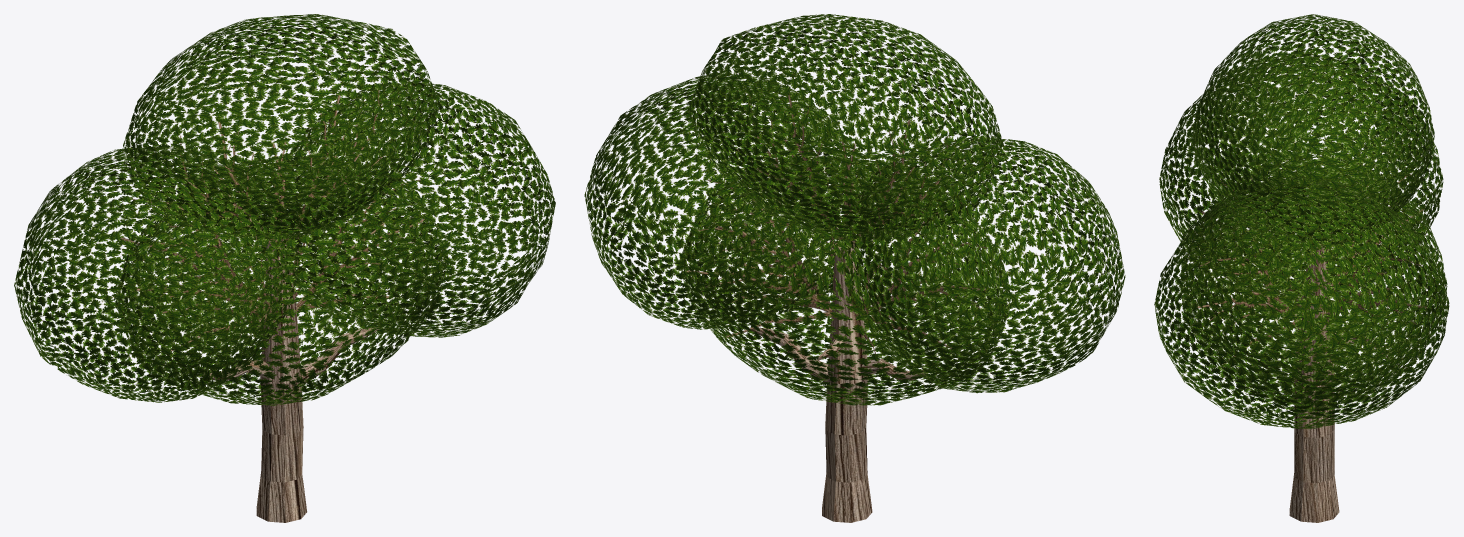
The model's file is tree2.glb.
3 renders of one model, left to right at view 1: azimuth 30°, elevation 25°; view 2: azimuth 150°, elevation 25°; view 3: azimuth 270°, elevation 25°, orthographic.
Parts seen in each view (by area): view 1: Mball.001, Mball.005, Mball.002, Mball.003, trunk-col, branches_texture.007; view 2: Mball.005, Mball.001, Mball.003, Mball.002, trunk-col, branches_texture.007; view 3: Mball.002, Mball.005, Mball.003, Mball.001, trunk-col, branches_texture.007.
Part boxes in pixels (box(x1,y1,x2,y2)): Mball.001: box(14, 147, 298, 402); Mball.005: box(123, 14, 439, 240); Mball.002: box(270, 81, 555, 337); Mball.003: box(114, 157, 448, 405); trunk-col: box(204, 240, 378, 522); branches_texture.007: box(120, 89, 424, 374); Mball.005: box(687, 14, 1004, 241); Mball.001: box(840, 136, 1125, 393); Mball.003: box(679, 155, 1013, 405); Mball.002: box(584, 72, 866, 329); trunk-col: box(750, 243, 927, 522); branches_texture.007: box(686, 88, 986, 373); Mball.002: box(1154, 176, 1449, 428); Mball.005: box(1192, 14, 1434, 250); Mball.003: box(1180, 154, 1447, 411); Mball.001: box(1159, 52, 1443, 300); trunk-col: box(1289, 244, 1374, 522); branches_texture.007: box(1197, 172, 1426, 364).
Size of the model in its own units: 27.73 by 25.31 by 14.21.
3 materials, 3 textured.
